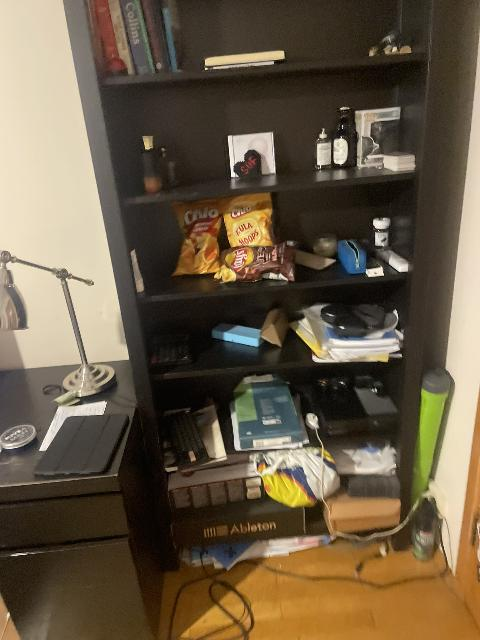Chio Cascaval 125g: (169, 198, 226, 277)
Chio Hula Hoops Cheese 70g: (222, 193, 277, 250)
Lays Beef Grilled Ribs 125g: (213, 242, 297, 283)
